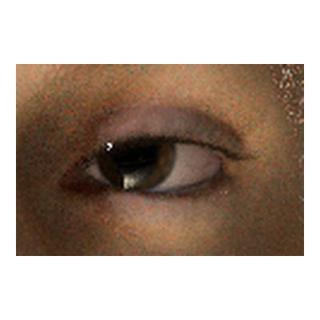pupil: (113, 130, 156, 174)
